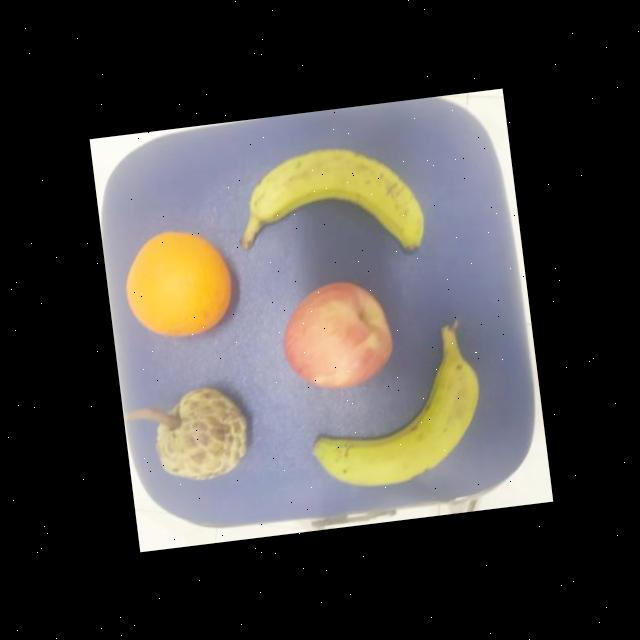Sakya fruit: (146, 380, 258, 487)
apple: (272, 272, 396, 398)
banana: (293, 304, 490, 497), (228, 134, 426, 273)
orange: (115, 218, 239, 346)
